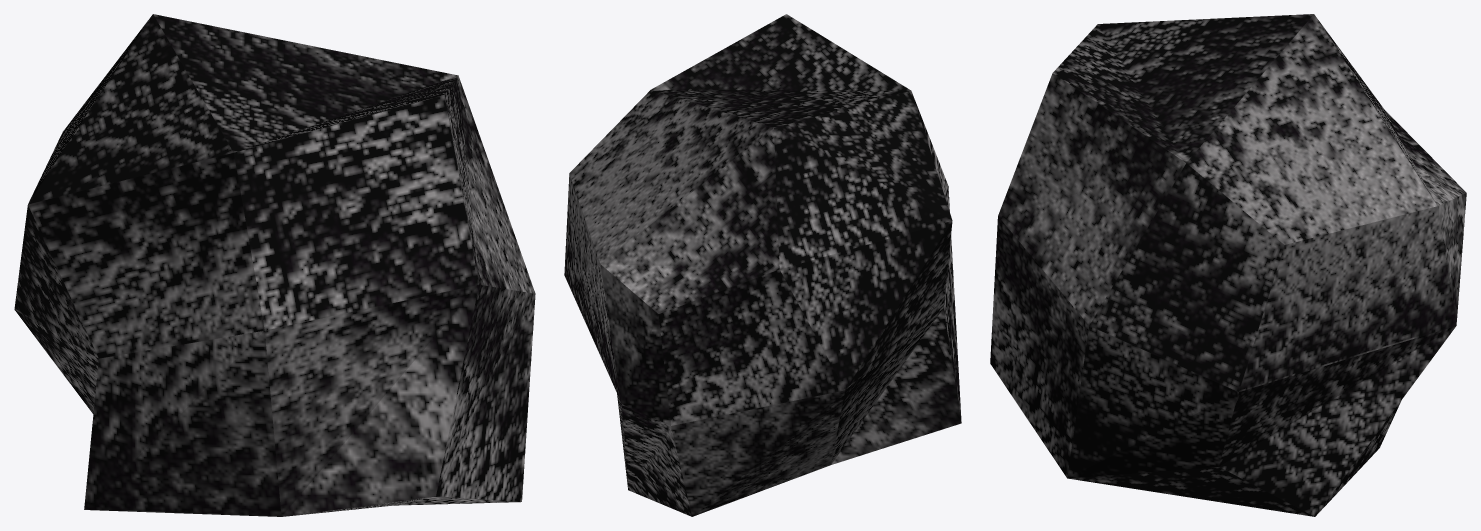
Rendered from possible2.obj.
3 renders of one model, left to right at view 1: azimuth 30°, elevation 25°; view 2: azimuth 150°, elevation 25°; view 3: azimuth 270°, elevation 25°, orthographic. The views are drawn at different scales.
Parts seen in each view (by area): view 1: Cube; view 2: Cube; view 3: Cube.
Boxes of the visible parts, x1=… form: Cube: x1=14, y1=14, x2=535, y2=516; Cube: x1=564, y1=14, x2=961, y2=516; Cube: x1=990, y1=14, x2=1466, y2=516.
Size of the model in its own units: 3.2 by 3.17 by 3.2.
